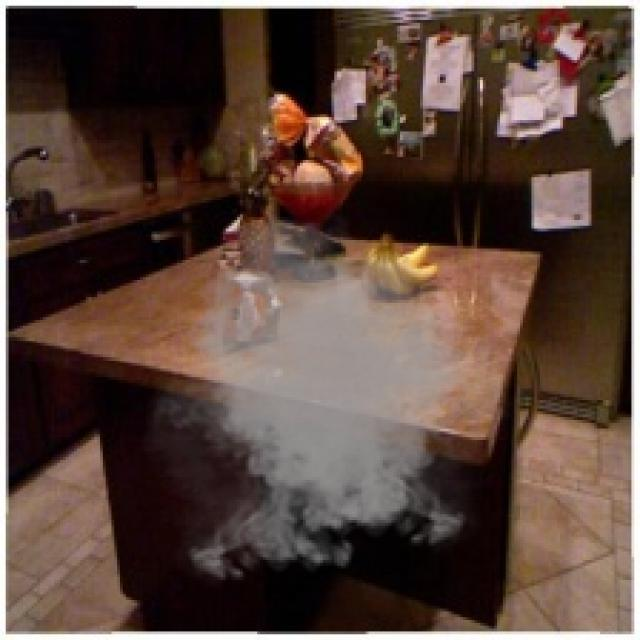Smoke: (131, 212, 523, 592)
